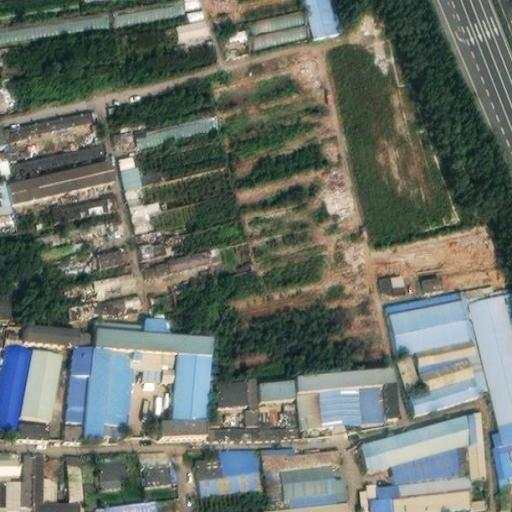building: (383, 281, 472, 352), (360, 408, 469, 462), (469, 289, 512, 417), (358, 469, 470, 512), (83, 338, 132, 436), (93, 312, 214, 349), (413, 327, 484, 384), (0, 4, 110, 40), (10, 156, 111, 195), (281, 441, 351, 496), (7, 138, 105, 175), (407, 365, 488, 409), (196, 442, 264, 490), (244, 6, 312, 53), (387, 439, 473, 476), (168, 345, 213, 412), (32, 453, 81, 512), (22, 339, 60, 415), (1, 105, 95, 135), (295, 358, 397, 383), (136, 108, 220, 138), (144, 243, 220, 271), (218, 369, 260, 419), (67, 336, 92, 420), (318, 377, 363, 422), (53, 189, 115, 216), (129, 341, 174, 378), (18, 317, 93, 338), (84, 236, 134, 267), (466, 404, 487, 473), (117, 147, 144, 200), (128, 192, 167, 226), (155, 408, 207, 432), (395, 347, 424, 389), (171, 14, 209, 44), (296, 381, 322, 424), (360, 375, 386, 418), (91, 267, 138, 290), (144, 447, 174, 483), (96, 496, 158, 512), (234, 341, 272, 367), (249, 422, 298, 442), (260, 366, 297, 392), (491, 433, 512, 477), (376, 272, 409, 299), (101, 458, 129, 485), (220, 24, 249, 46), (23, 450, 33, 503), (114, 122, 139, 143), (145, 307, 171, 326), (383, 375, 395, 411), (0, 84, 15, 112), (1, 316, 19, 338), (495, 413, 512, 436), (157, 493, 179, 510)
